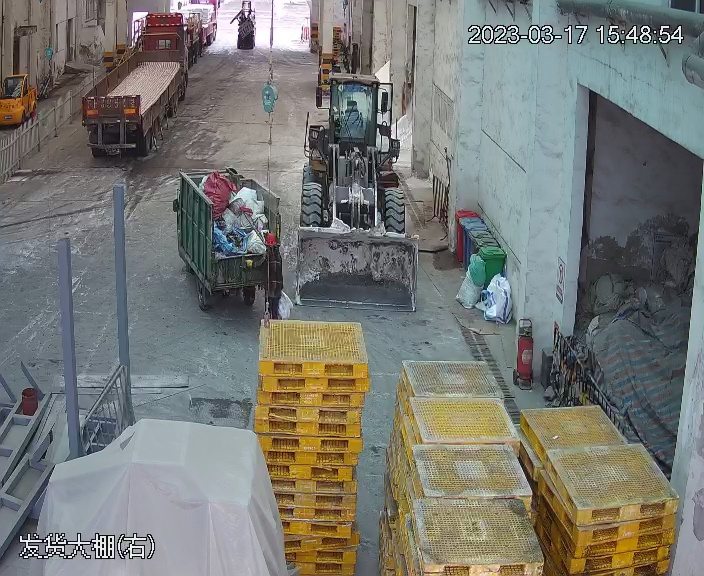head: (263, 233, 285, 272)
helmet: (265, 232, 280, 248)
people: (253, 231, 284, 320)
truck: (78, 11, 194, 162)
